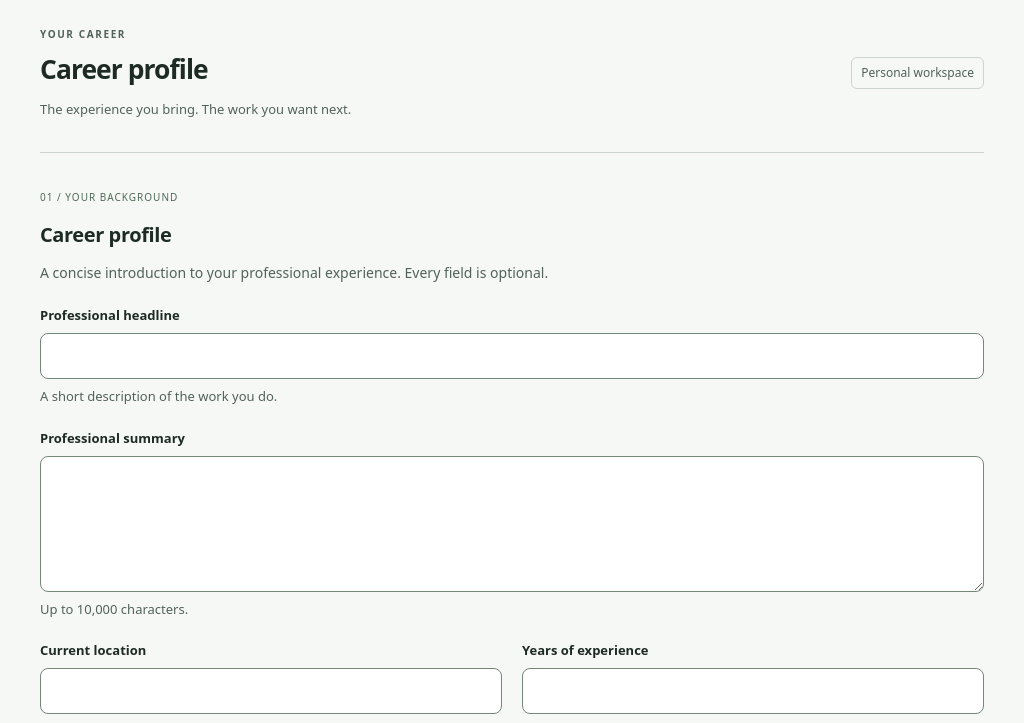
Scenario: keeps edits after a conflict and exposes deliberate reload
Type "Unsaved work" into the field labelled "Professional headline".
click(512, 356); type("Unsaved work")  # box [40,333,984,380]
(page scrolled)
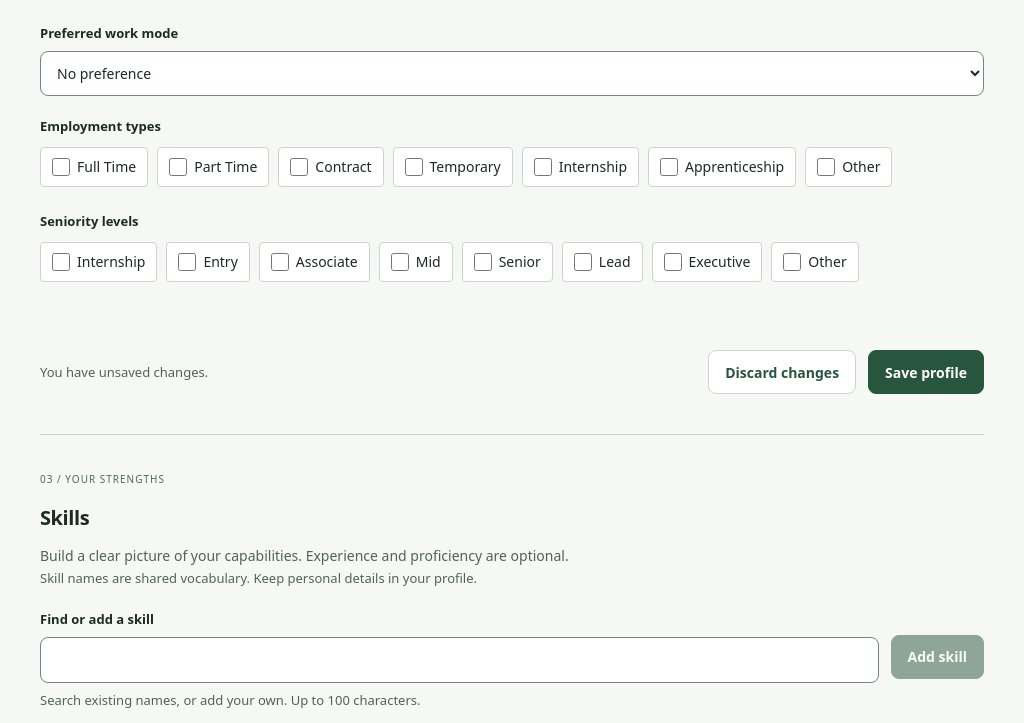
Click the button "Save profile".
click(926, 372)  # box [868,350,984,394]
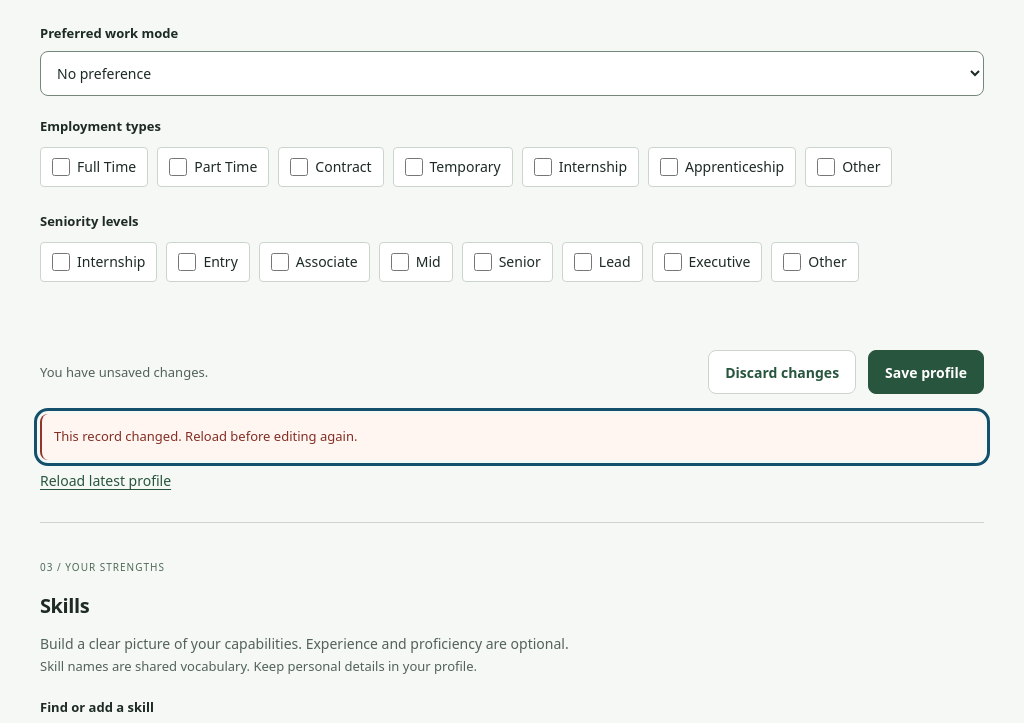
Result: the message shows "This record changed" at [54,428,357,446]
Result: the button "Reload latest profile" is shown at [40,460,171,502]
